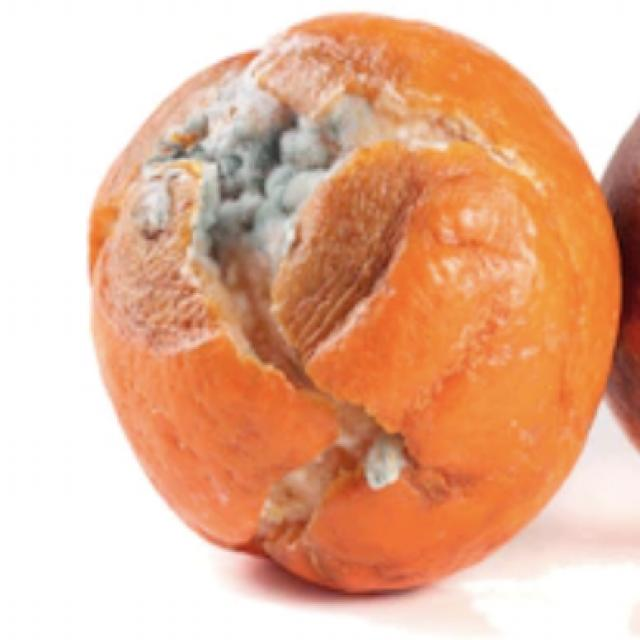rotten-orange: (84, 8, 621, 590)
